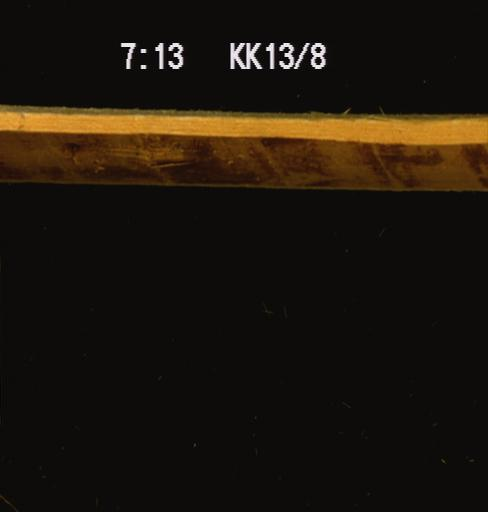wave: (0, 124, 487, 188)
